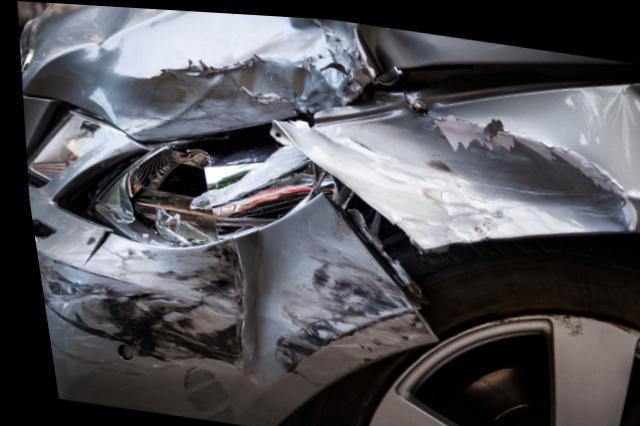crack: (71, 225, 106, 268)
dent: (21, 4, 446, 139), (277, 107, 627, 245), (227, 216, 278, 388)
dislocated part: (20, 95, 428, 426)
lamp broken: (79, 121, 315, 248)
scratch: (262, 191, 427, 387), (29, 237, 235, 377)
